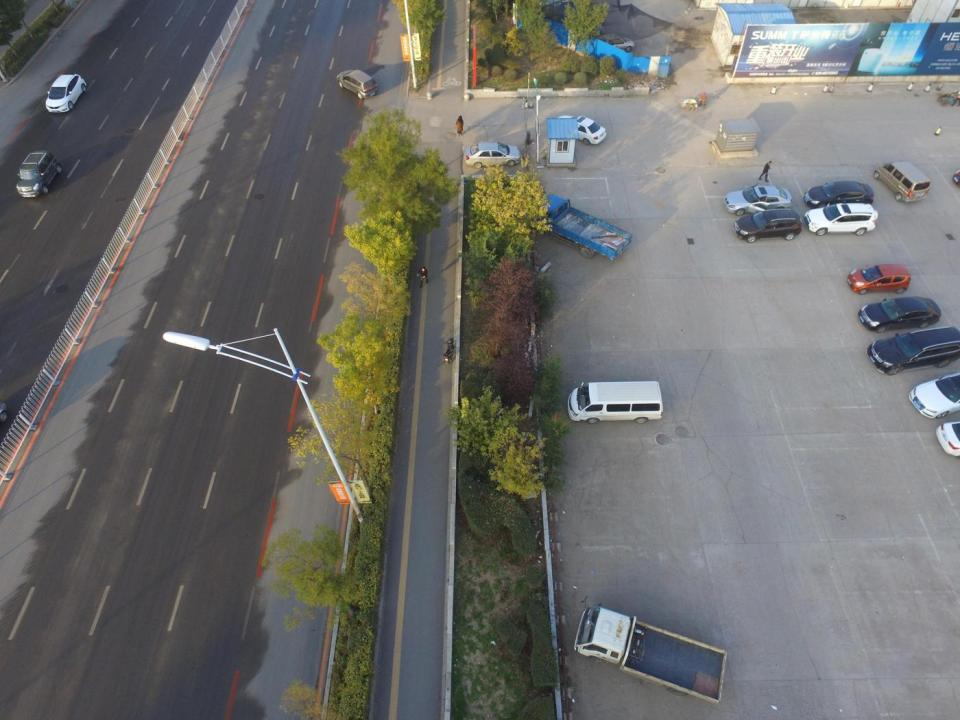car: (865, 325, 960, 373), (859, 296, 941, 331), (908, 371, 960, 418), (804, 205, 881, 235), (16, 151, 62, 198), (848, 262, 911, 294), (736, 209, 803, 239), (44, 73, 86, 112), (463, 140, 521, 166), (558, 116, 610, 143), (337, 70, 380, 99), (590, 33, 636, 55)
truck: (574, 605, 726, 702), (535, 195, 632, 260)
van: (567, 379, 665, 425), (875, 159, 930, 202), (804, 179, 875, 210), (725, 183, 791, 213)
